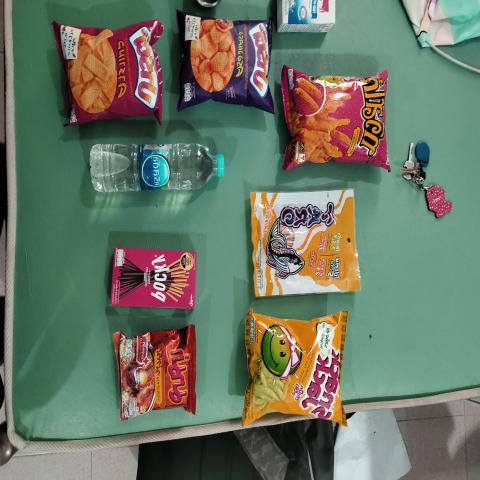crystal: (85, 137, 229, 197)
mama: (118, 330, 194, 415)
party_purple: (184, 20, 269, 98)
party_red: (71, 29, 156, 109)
pokki: (111, 253, 199, 312)
snack_jack: (250, 319, 343, 413)
taro_yellow: (255, 191, 353, 288)
twisco: (288, 74, 386, 163)
